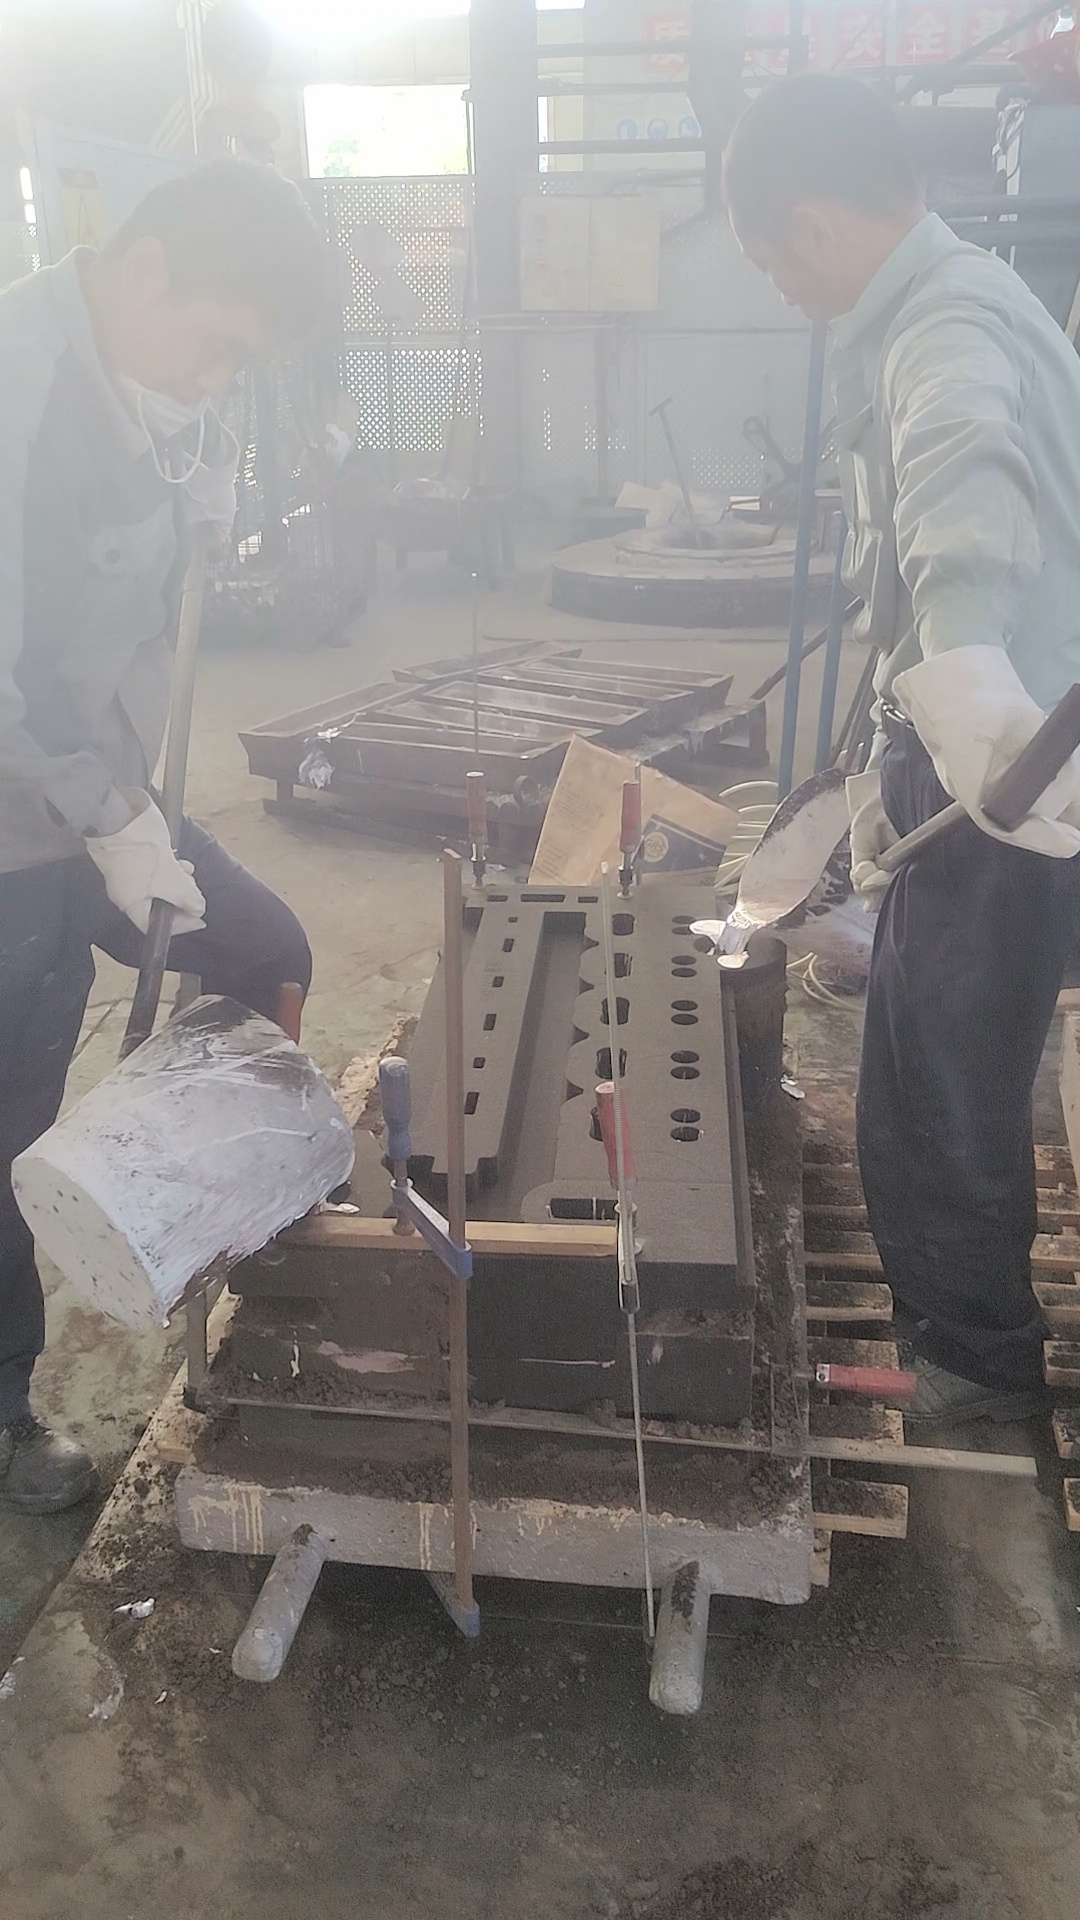pouring hole: (281, 1184, 343, 1222), (694, 932, 749, 953)
